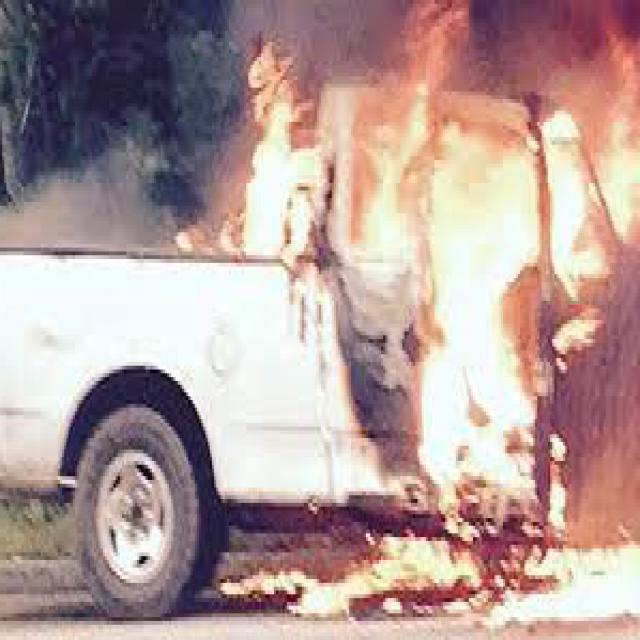Fire: (163, 10, 635, 628)
Smoke: (0, 145, 167, 295)
